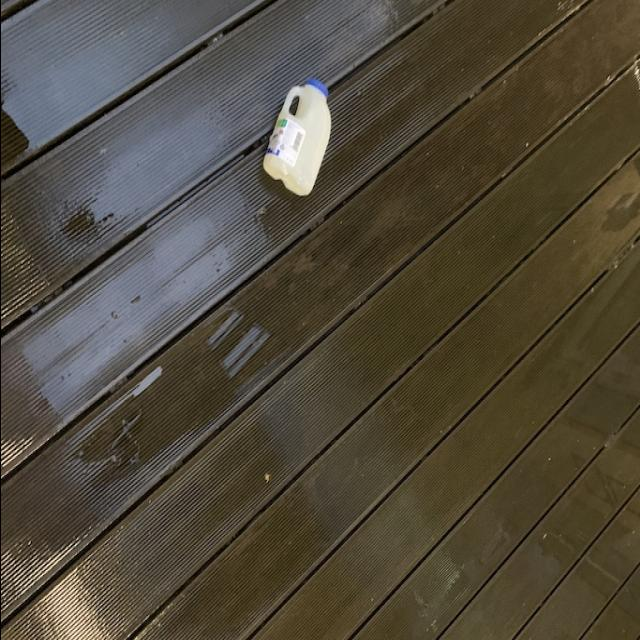litter: (258, 79, 334, 200)
